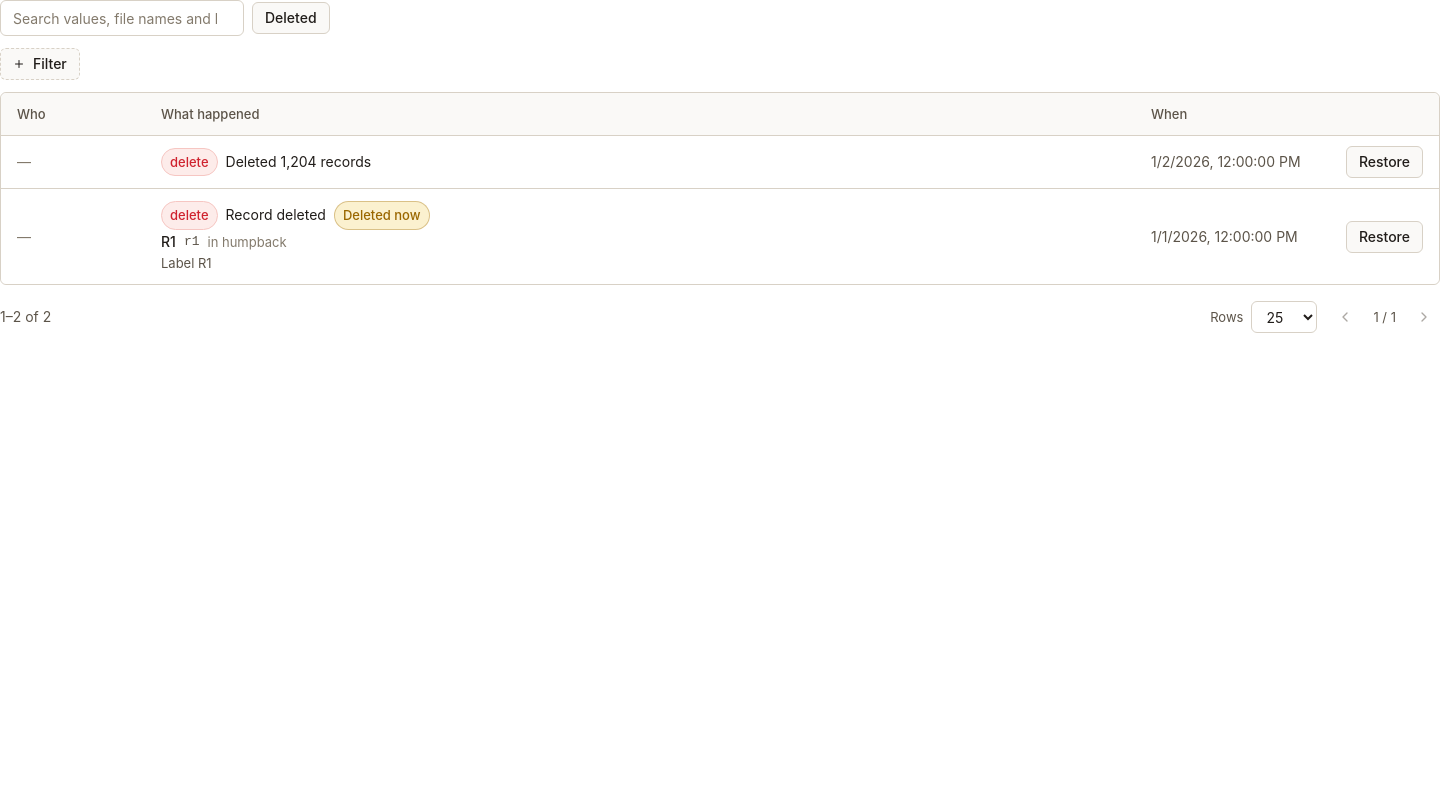
Test case: ActivityFeed › opens a batch to the changes in it
The width and height of the screenshot is (1440, 810).
Click the text "Deleted 1,204 records" at (266, 162), box x1=161 y1=148 x2=371 y2=176
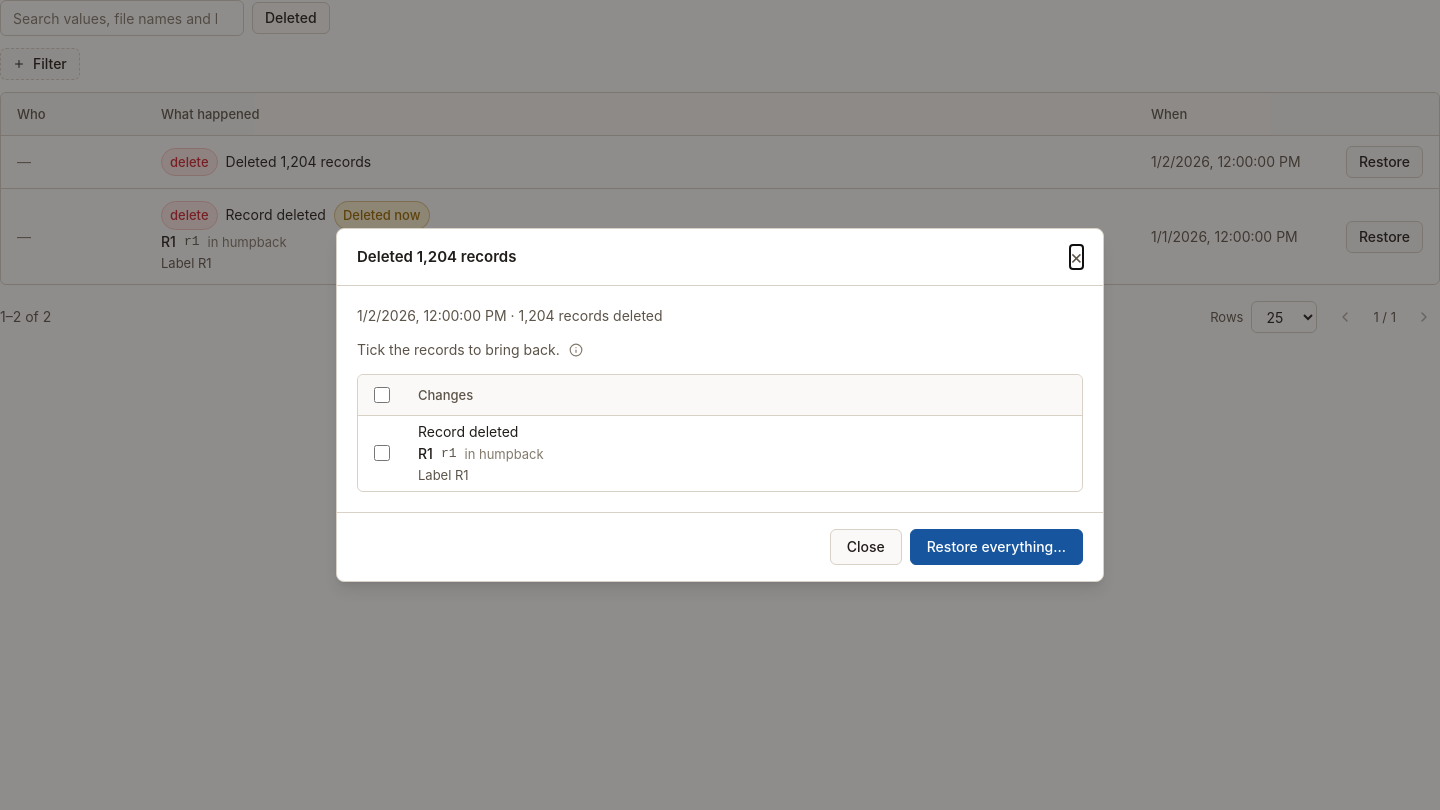
expect the dialog shows "1,204 records deleted": met, box x1=518 y1=307 x2=663 y2=324
expect the dialog shows "Record deleted": met, box x1=418 y1=423 x2=518 y2=440
